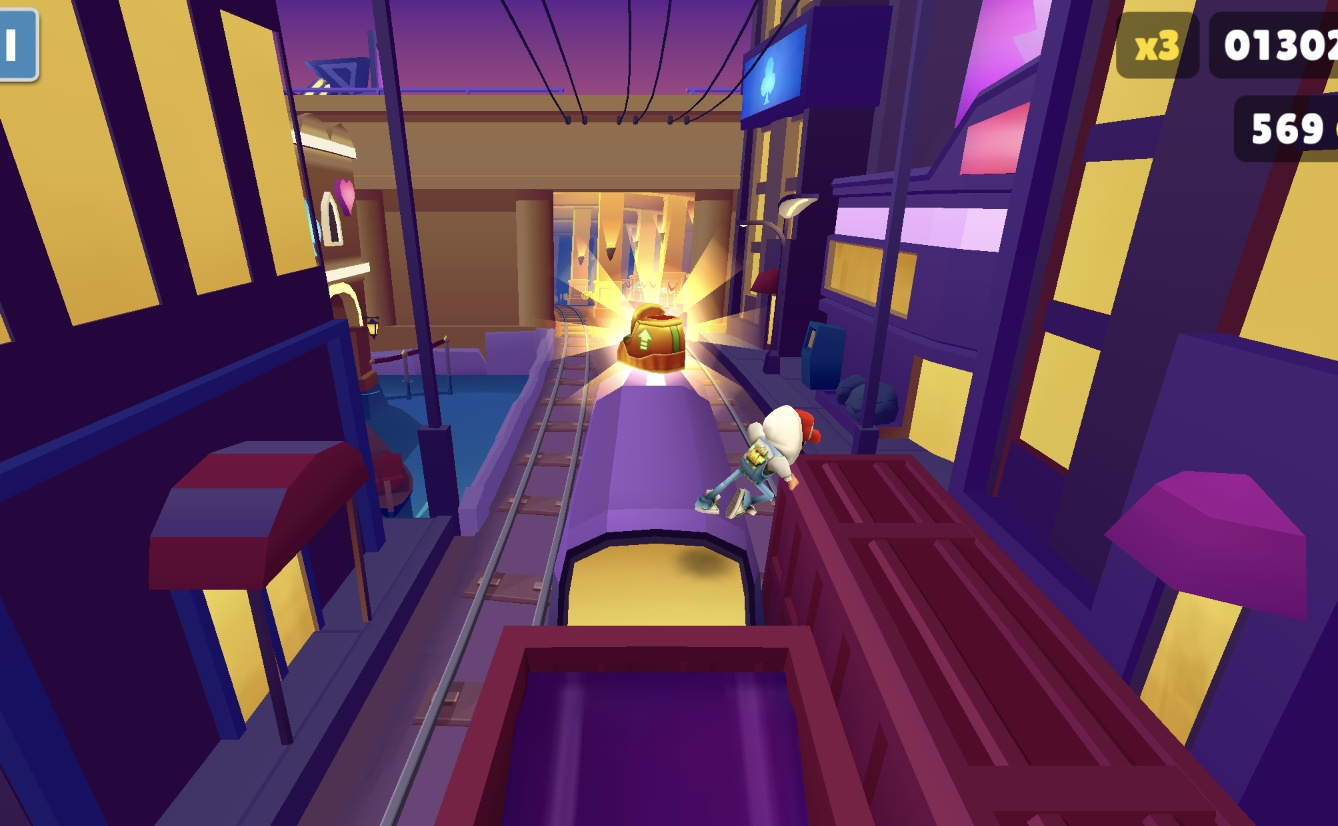pillar: (574, 192, 607, 319)
train: (766, 459, 1263, 826), (442, 624, 859, 826), (554, 354, 766, 639)
